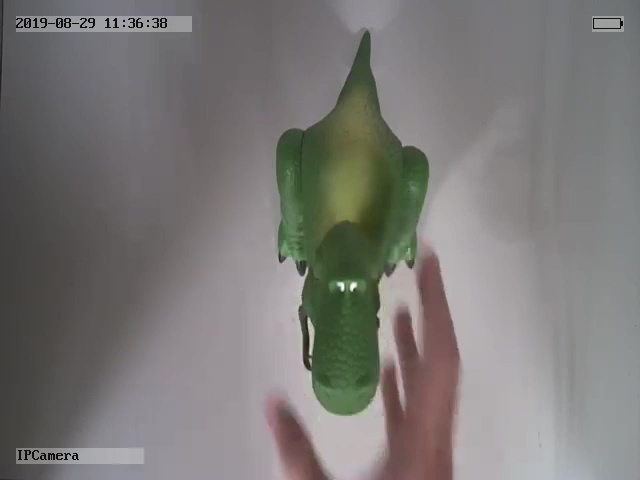rex: (276, 28, 429, 415)
